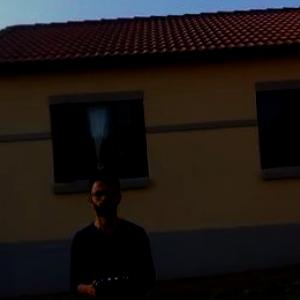follow: (66, 165, 162, 299)
